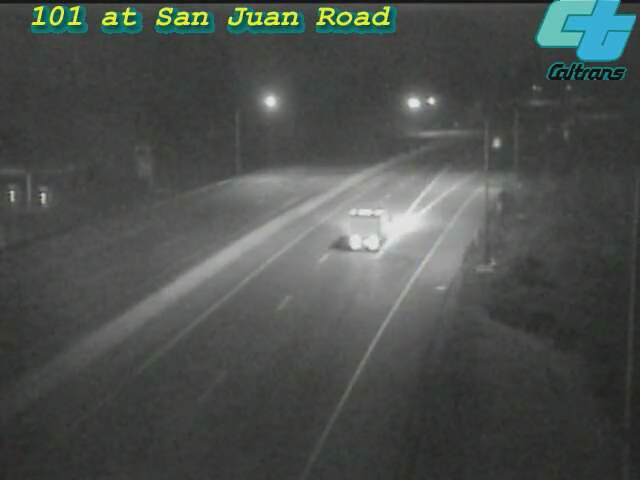vehicle: (324, 191, 404, 271)
